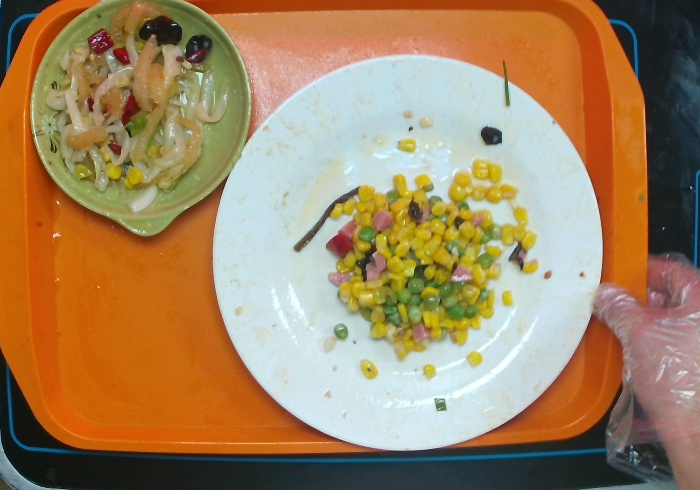NLDX-Da_Yuan_Pan: (212, 54, 605, 451)
NLDX-Lv_Hua_Shuang_Er_Die: (32, 1, 250, 240)
